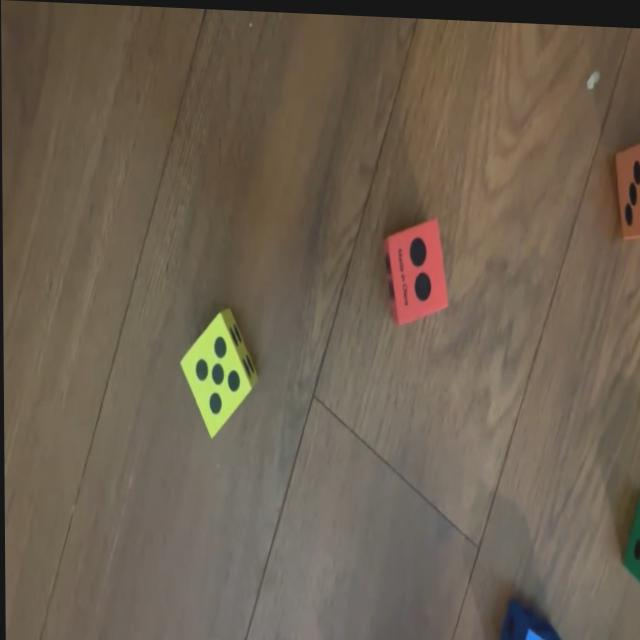blue_block: (501, 603, 569, 640)
red_block: (385, 218, 447, 322)
